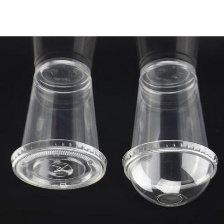glass: (119, 54, 222, 215), (8, 51, 106, 195)
